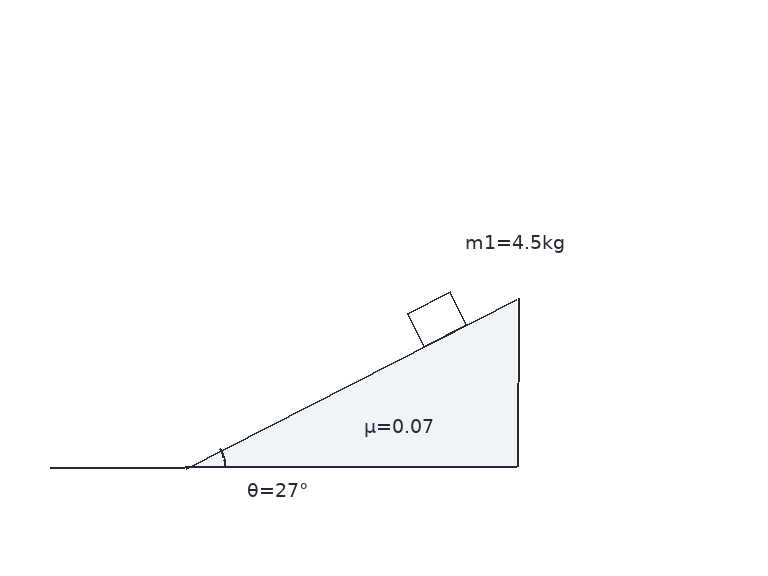block: (405, 290, 468, 348)
ramp: (183, 296, 518, 469)
